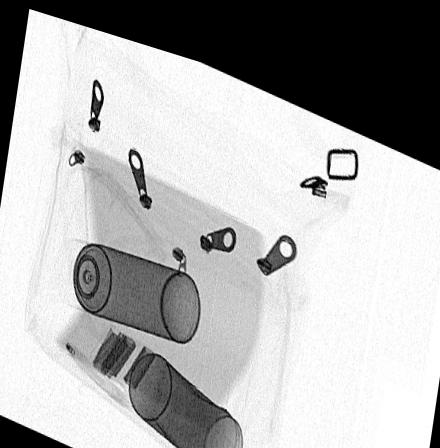Sprayer: (57, 232, 201, 332)
